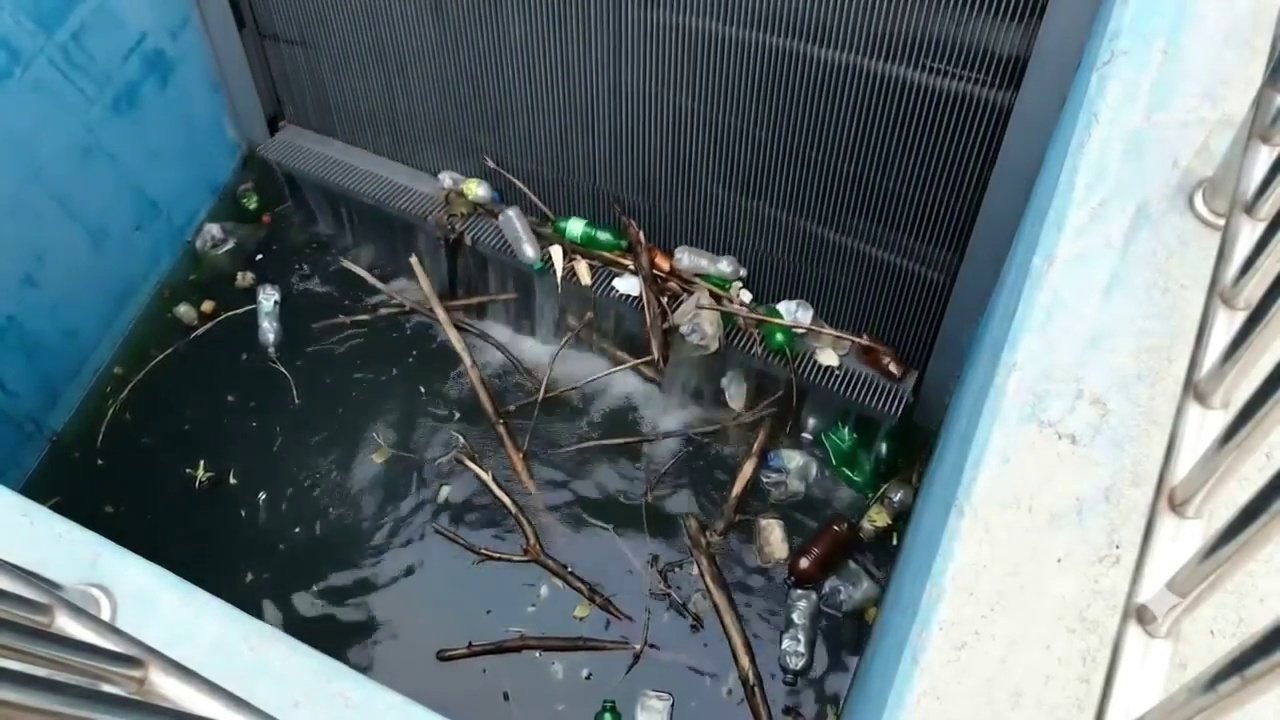debris: (315, 176, 842, 716), (410, 202, 841, 621), (484, 157, 908, 380), (484, 158, 732, 369), (433, 440, 631, 620), (410, 255, 536, 492), (96, 305, 254, 446), (683, 515, 771, 719), (699, 303, 904, 379), (549, 391, 780, 453), (521, 312, 593, 454), (614, 202, 667, 369), (502, 356, 650, 412), (549, 415, 757, 453), (726, 305, 891, 352), (712, 416, 772, 537), (819, 417, 899, 496), (340, 258, 439, 321), (436, 635, 636, 661), (255, 284, 298, 404), (436, 635, 632, 661), (788, 514, 855, 586), (433, 191, 477, 295), (580, 328, 661, 383), (482, 156, 553, 218), (194, 216, 268, 274), (578, 509, 643, 572), (649, 554, 702, 631), (535, 221, 619, 269), (779, 587, 818, 686), (819, 422, 874, 492), (442, 191, 477, 296), (819, 559, 881, 614), (858, 479, 913, 540), (654, 564, 703, 631), (672, 289, 723, 352), (760, 448, 817, 503), (552, 216, 627, 252), (497, 205, 540, 266), (565, 238, 638, 273), (672, 246, 745, 280), (437, 184, 477, 245), (236, 181, 290, 225), (620, 602, 651, 678), (620, 603, 651, 678), (643, 447, 686, 501), (726, 387, 786, 425), (879, 463, 920, 517), (313, 306, 411, 328), (654, 261, 693, 314), (444, 220, 471, 296), (255, 283, 281, 357), (857, 346, 910, 381), (759, 305, 795, 354), (694, 274, 750, 305), (755, 516, 789, 566), (690, 275, 745, 305), (859, 347, 908, 380), (683, 282, 750, 306), (798, 403, 838, 442), (304, 328, 363, 353), (269, 357, 299, 404), (370, 432, 415, 463), (782, 353, 799, 435), (194, 223, 234, 257), (774, 299, 814, 333), (692, 275, 743, 300), (432, 431, 466, 467), (804, 331, 852, 356), (634, 689, 674, 719), (443, 293, 517, 309), (719, 369, 747, 411), (459, 178, 498, 204), (235, 182, 261, 219), (312, 328, 365, 346), (860, 503, 891, 531), (660, 555, 698, 577), (186, 459, 213, 487), (187, 459, 213, 487), (548, 244, 564, 289), (647, 245, 672, 273), (662, 556, 697, 576), (611, 273, 641, 296), (260, 201, 291, 223), (261, 599, 283, 630), (727, 281, 753, 306), (172, 301, 198, 326), (688, 589, 713, 614), (570, 258, 592, 286), (811, 346, 840, 366), (437, 170, 466, 190), (593, 699, 622, 719), (731, 283, 753, 304), (234, 270, 257, 290), (572, 600, 591, 620), (370, 445, 391, 463), (781, 704, 806, 719), (814, 704, 838, 719), (435, 483, 451, 504), (719, 677, 733, 699), (549, 660, 563, 680), (199, 299, 216, 315), (820, 704, 838, 719), (863, 606, 878, 624), (43, 496, 60, 508), (579, 667, 593, 681), (538, 583, 549, 599), (258, 213, 272, 225), (504, 627, 527, 634), (256, 491, 267, 505), (228, 469, 237, 485), (112, 365, 125, 376), (244, 571, 254, 583), (553, 578, 565, 588), (451, 409, 460, 421), (891, 531, 898, 546), (418, 385, 426, 397), (502, 690, 510, 702), (554, 703, 564, 712), (526, 604, 537, 612), (313, 521, 319, 535), (103, 505, 113, 513), (226, 394, 235, 402), (255, 253, 263, 261), (95, 458, 104, 465)
